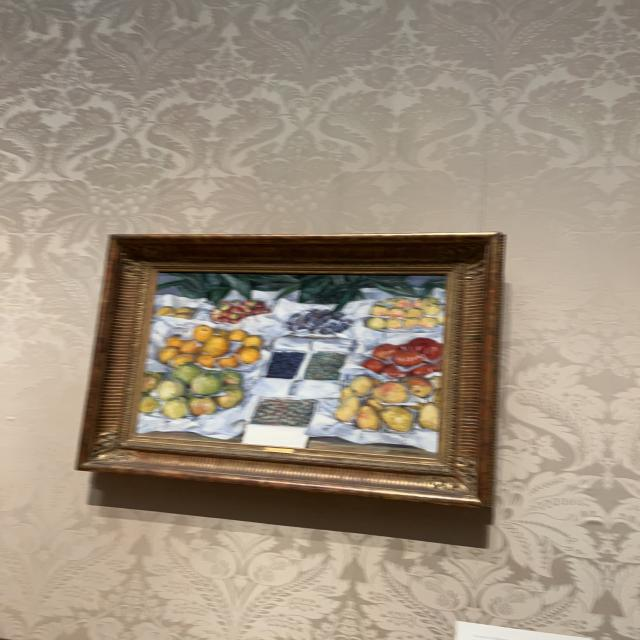fruits: (142, 278, 436, 449)
